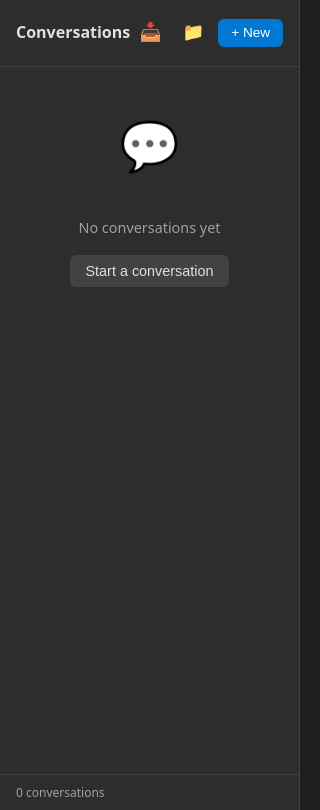
it: ConversationSidebar Integration Tests › creates a new folder when clicking folder button
Note: Click the folder button (📁)
Click the button titled "New Folder" at x=193, y=33, box [176,16,210,50]
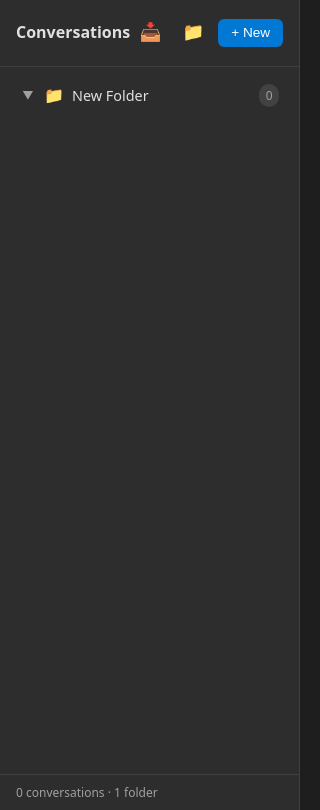
Now the text "New Folder" is shown, box [72,86,149,105]
